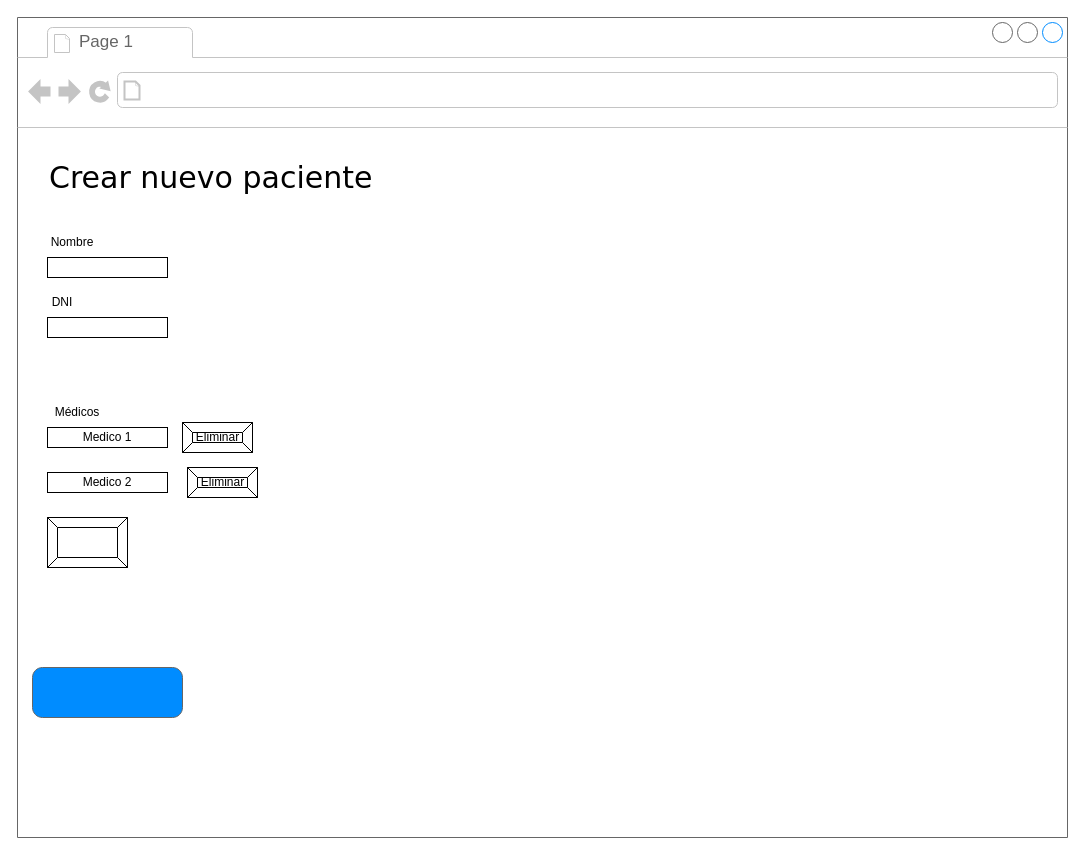
The diagram is 1085 pixels wide and 855 high, and some of its shapes have lost their labels. The centre of each missing label's shape, as x and y in pixels:
"Añadir otro" goes at [87,542].
"Guardar" goes at [107,692].
"https://www.prefall/medico_crear_paciente" goes at [272,90].
